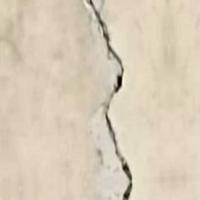crack: (66, 1, 147, 199)
